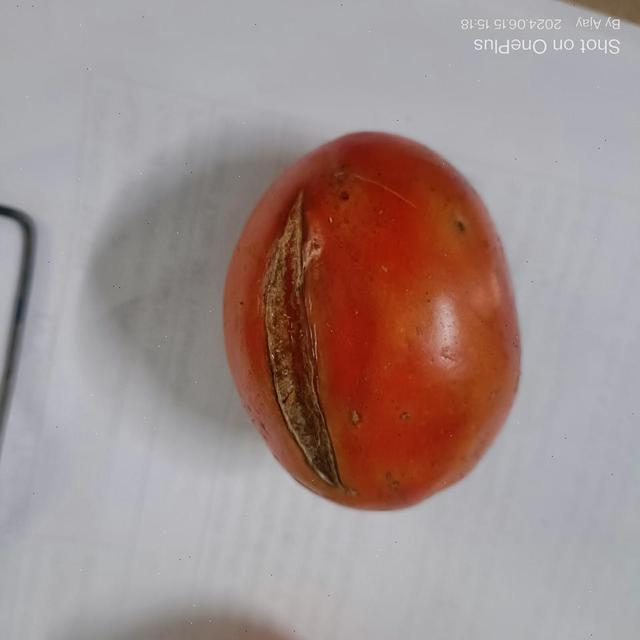Cracking Fruit: (123, 221, 333, 432)
